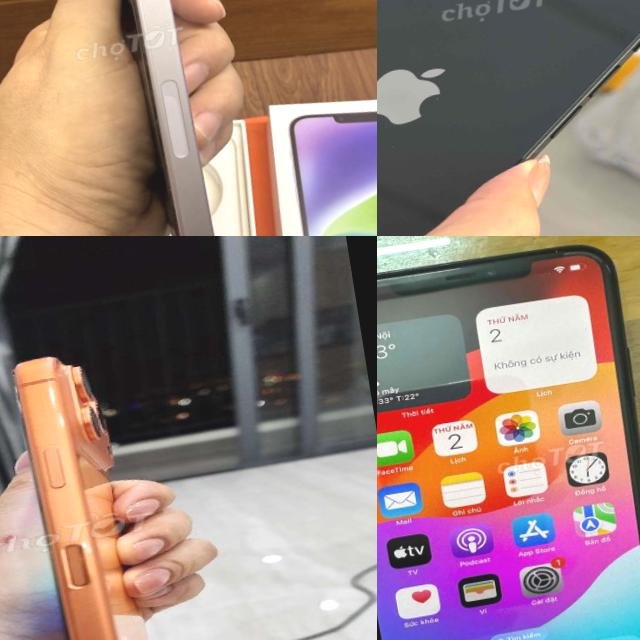gen_11: (377, 236, 640, 640)
gen_12_13: (377, 0, 640, 236)
gen_14: (68, 0, 235, 236)
gen_17: (0, 334, 210, 640)
